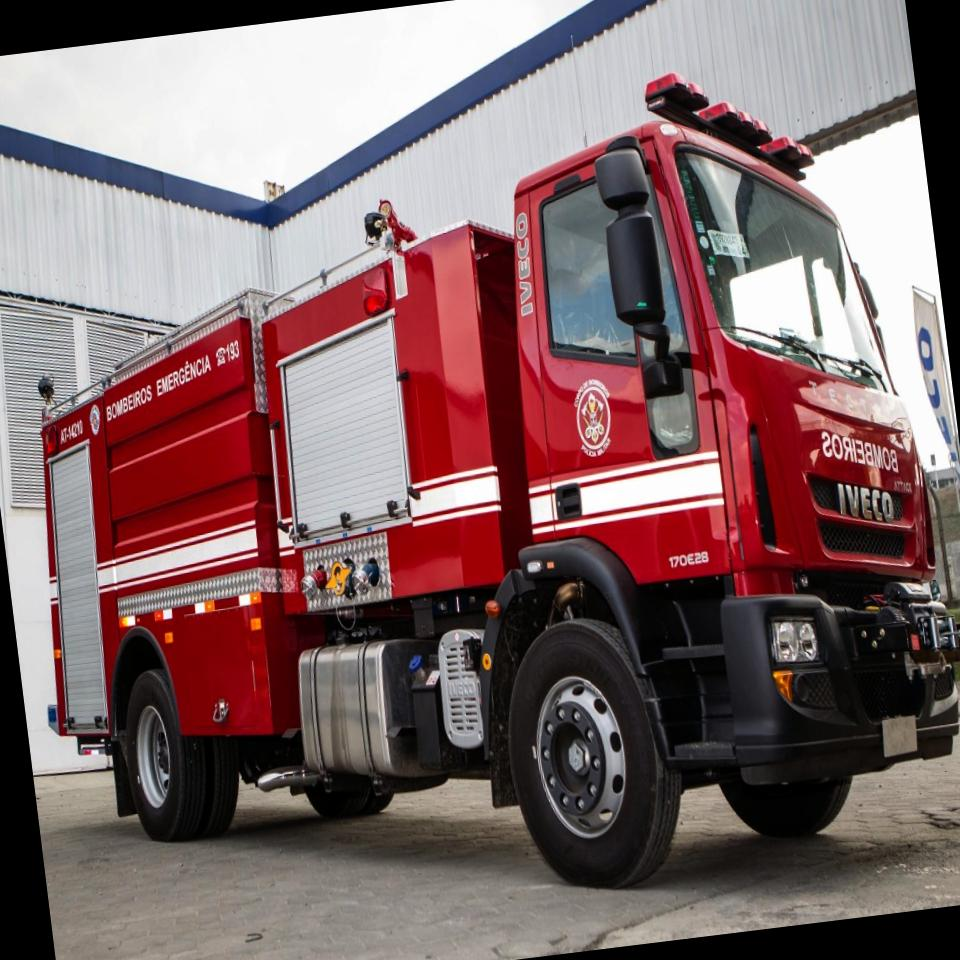viatura: (0, 44, 960, 957)
